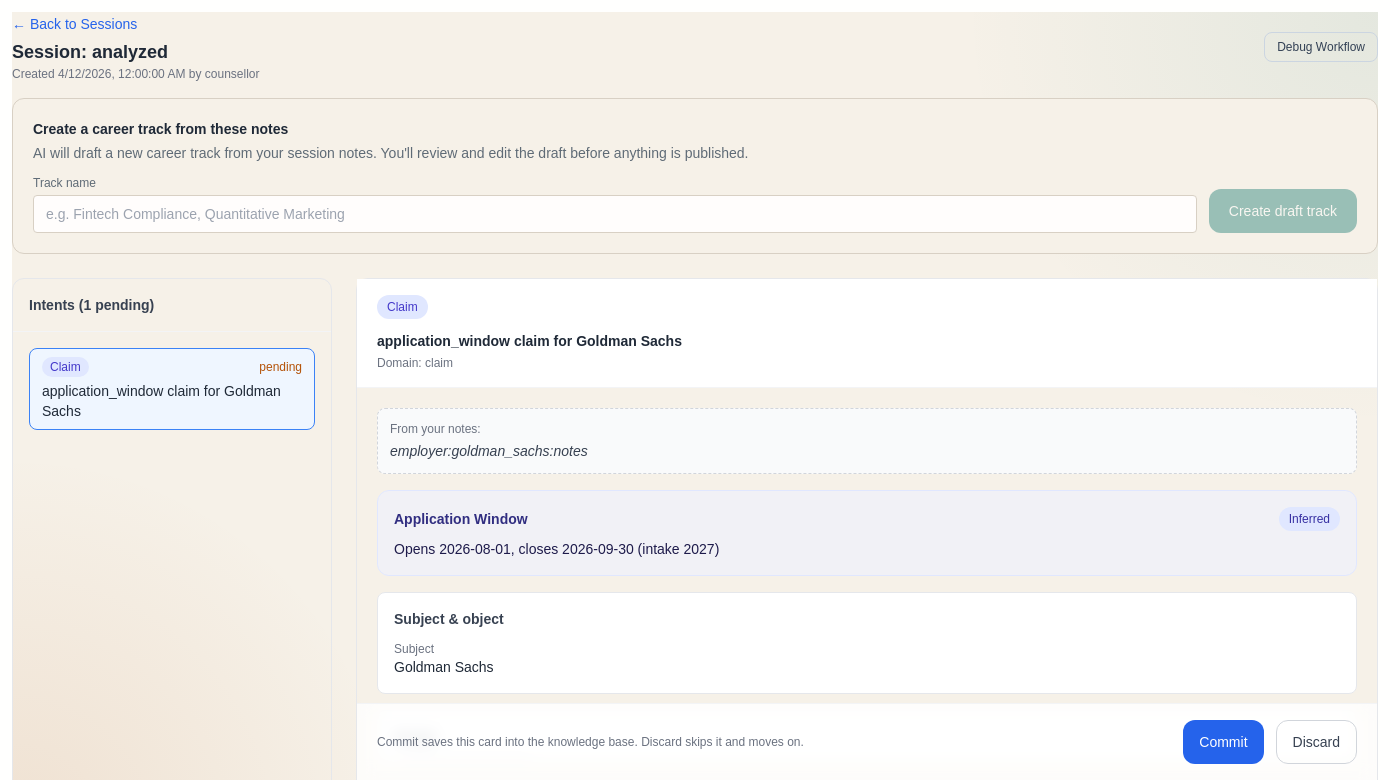
Scenario: SmartCanvas › discards claim cards through the existing generic discard endpoint, unmodified
Expected: the heading "application_window claim for Goldman Sachs" is shown, left=377, top=331, right=682, bottom=351
Click the button "Discard".
click(1316, 742)  # box left=1276, top=720, right=1357, bottom=764
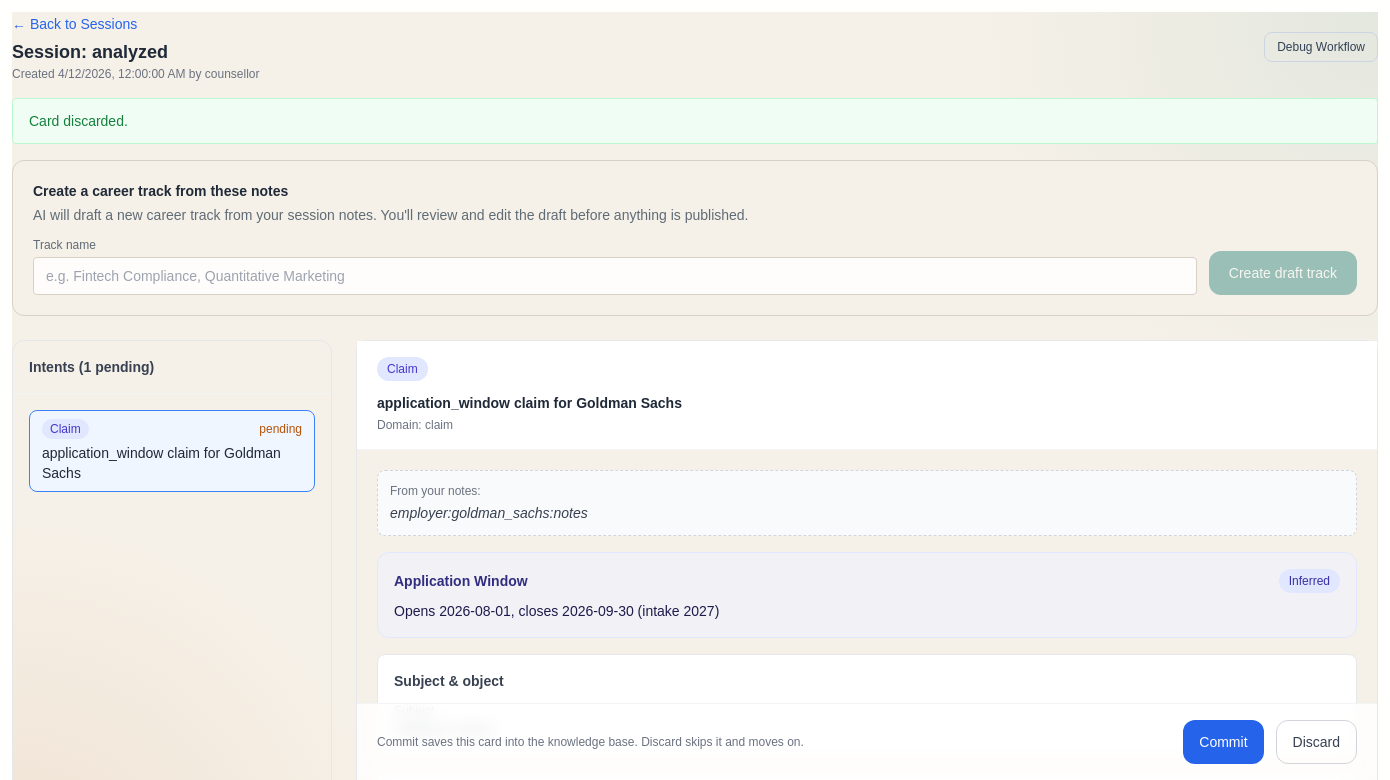
Expected: the text "Card discarded." is shown, left=12, top=98, right=1378, bottom=144
